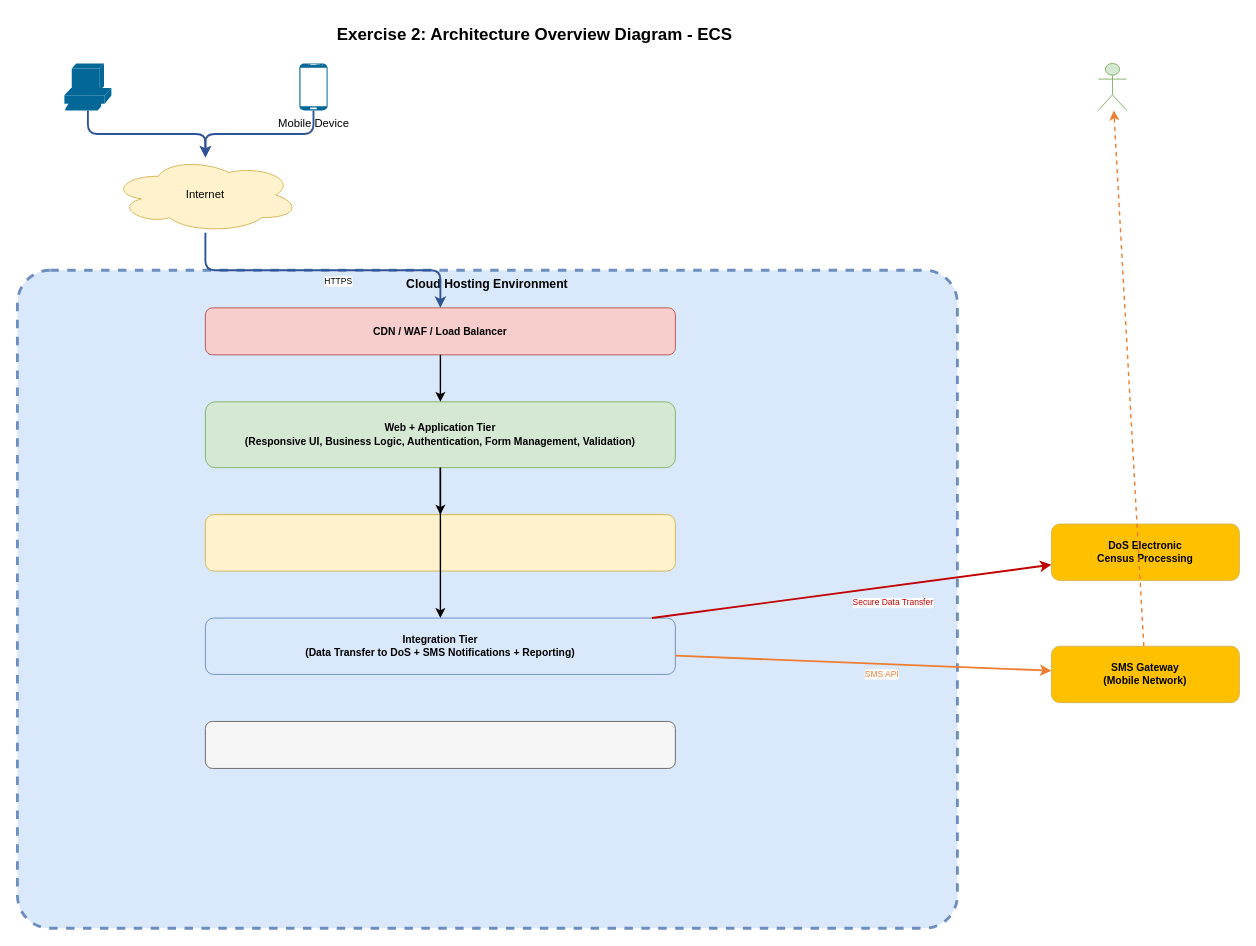
Image size: 1256x946. Some labels were removed from this diagram. The box of each missing label's shape, as (x1, y1, x2, y2) in pixels:
Census Collector (receives SMS): (1097, 63, 1127, 110)
Data Tier (Census Database + Session Cache): (204, 514, 675, 571)
Desktop Browser: (64, 63, 111, 110)
Monitoring & Support Tools: (204, 721, 675, 768)
